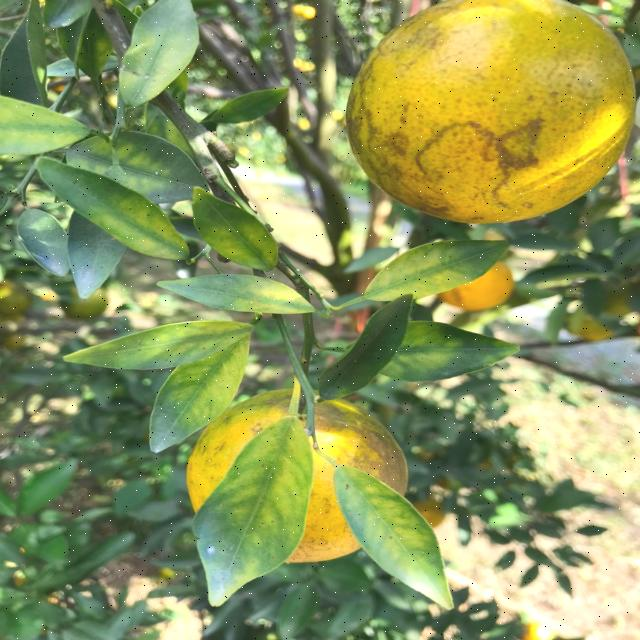blackspot: (177, 419, 318, 594), (43, 164, 184, 262), (341, 470, 449, 590), (69, 133, 202, 207), (80, 321, 248, 376), (366, 240, 498, 299), (368, 324, 498, 380), (69, 211, 132, 301), (166, 274, 300, 315), (0, 101, 89, 153)
